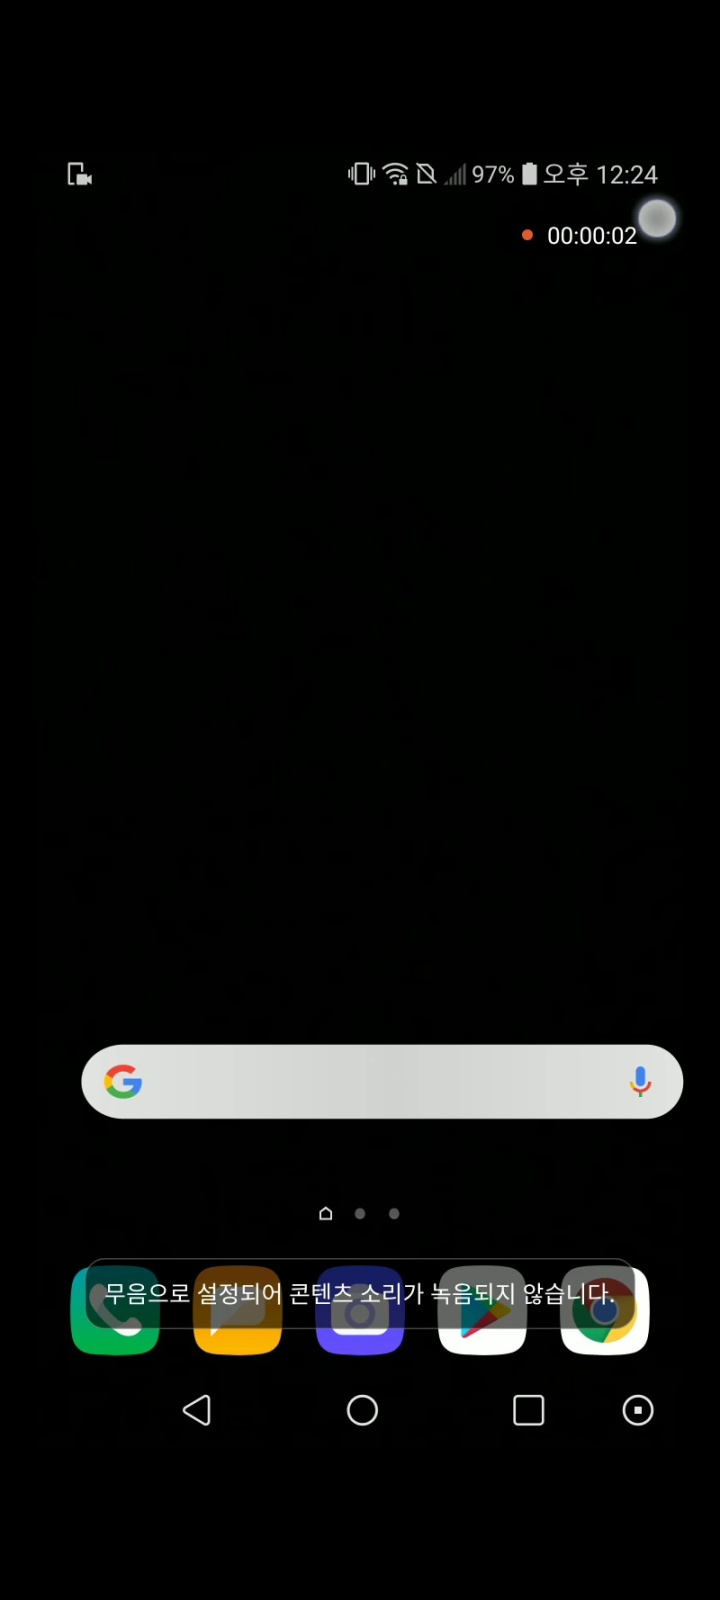Cursor: (634, 196, 679, 242)
